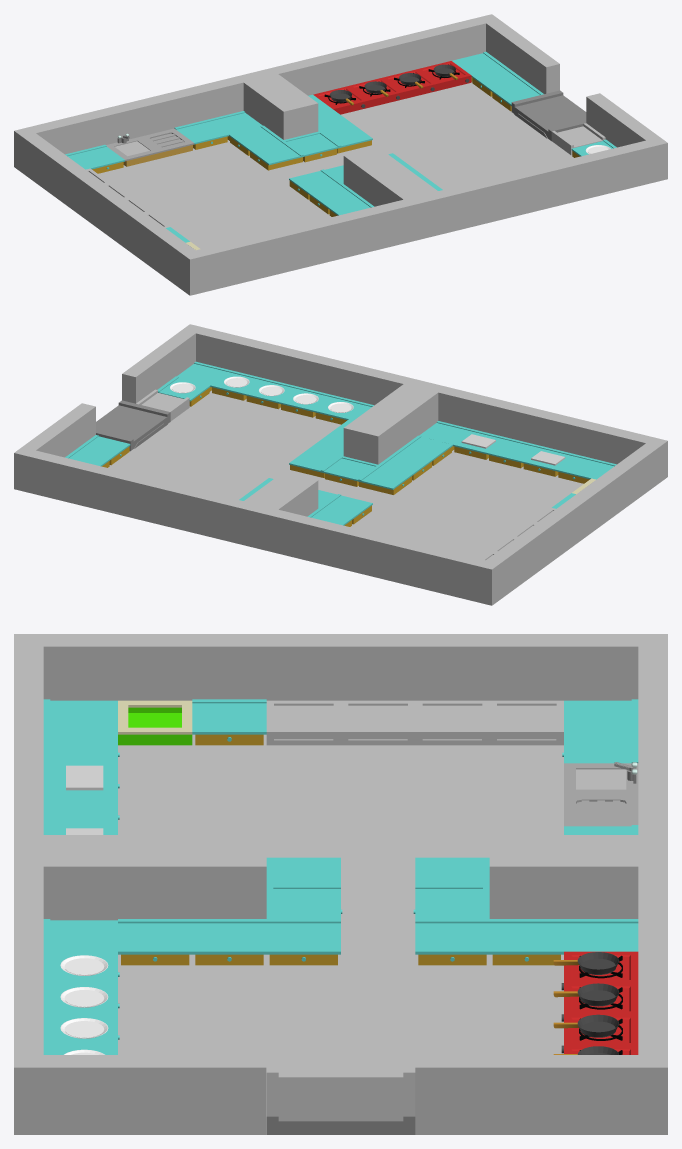
Rendered from overcooked2.glb.
3 renders of one model, top to bottom at view 1: azimuth 30°, elevation 25°; view 2: azimuth 150°, elevation 25°; view 3: azimuth 270°, elevation 25°, orthographic. The views are drawn at different scales.
Visible parts, largest first — view 1: object 1, object 2, Box001 (×3), Box072, Box061, Box005, Box003, Box065, Box059, Box033, Box045, Box063 (+9 smaller); view 2: object 1, object 2, Box001, Box072, Box045, Box013, Box009, Box053, Box049, Box041, Box035, Box043 (+11 smaller); view 3: object 1, object 2, Box001 (×6), Box067, Box068, Box069, Box047, Box049, Box051, Box055, Box059, Box070 (+31 smaller).
Part boxes in pixels (bbox=[...]): object 1: bbox=[14, 14, 667, 295]; object 2: bbox=[98, 82, 573, 248]; Box001 (×3): bbox=[106, 86, 586, 161]; Box072: bbox=[551, 123, 605, 155]; Box061: bbox=[249, 140, 303, 165]; Box005: bbox=[174, 119, 228, 144]; Box003: bbox=[71, 144, 124, 169]; Box065: bbox=[284, 131, 338, 156]; Box059: bbox=[319, 124, 372, 148]; Box033: bbox=[471, 66, 525, 91]; Box045: bbox=[289, 169, 342, 194]; Box063: bbox=[229, 125, 282, 150]; object 1: bbox=[14, 324, 667, 605]; object 2: bbox=[108, 390, 583, 558]; Box001: bbox=[96, 400, 170, 451]; Box072: bbox=[136, 389, 189, 421]; Box045: bbox=[358, 465, 412, 489]; Box013: bbox=[487, 437, 541, 462]; Box009: bbox=[557, 454, 610, 479]; Box053: bbox=[323, 456, 377, 481]; Box049: bbox=[289, 448, 343, 472]; Box041: bbox=[378, 450, 432, 474]; Box035: bbox=[76, 435, 130, 459]; Box043: bbox=[398, 435, 452, 460]; object 1: bbox=[14, 634, 667, 1134]; object 2: bbox=[118, 734, 563, 1134]; Box001 (×6): bbox=[118, 699, 638, 1134]; Box067: bbox=[415, 700, 489, 745]; Box068: bbox=[341, 700, 415, 745]; Box069: bbox=[266, 700, 340, 745]; Box047: bbox=[192, 919, 266, 954]; Box049: bbox=[266, 919, 340, 954]; Box051: bbox=[118, 919, 192, 954]; Box055: bbox=[489, 919, 563, 954]; Box059: bbox=[415, 919, 489, 954]; Box070: bbox=[192, 699, 266, 734].
Bounding box in the file's own units: 690 × 50 × 440.
